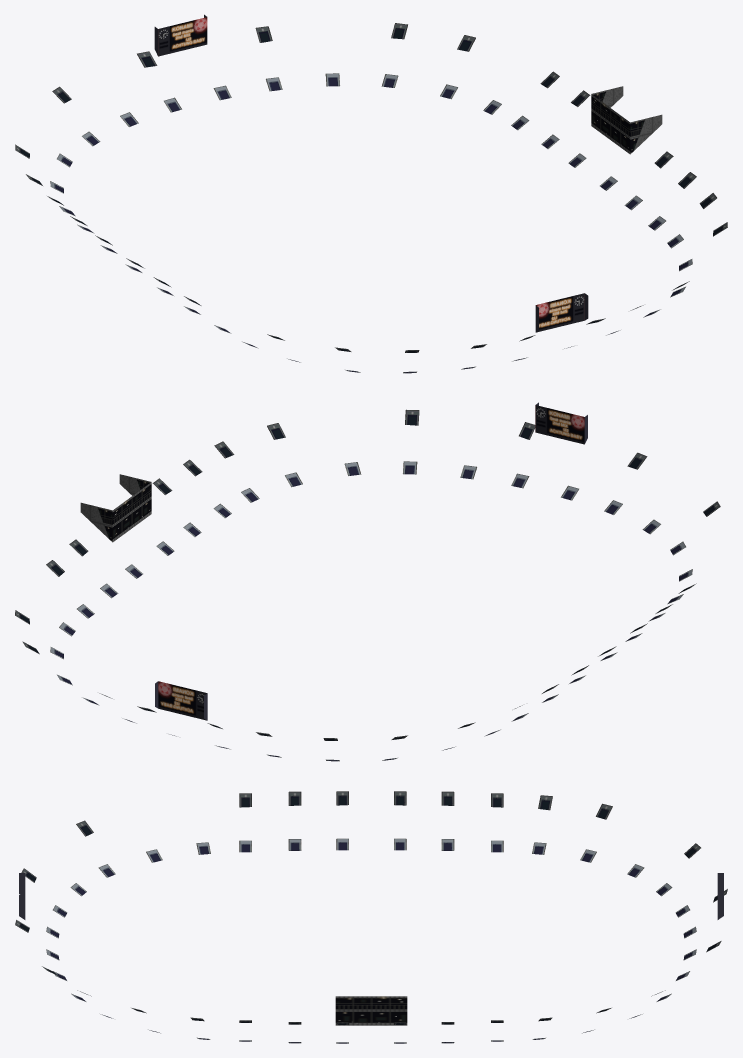
3 views of the same model, one above another, from view 1: azimuth 30°, elevation 25°; view 2: azimuth 150°, elevation 25°; view 3: azimuth 270°, elevation 25° (orthographic). The views are drawn at different scales.
Size of the model in its own units: 191 by 23.86 by 243.
3 materials, 3 textured.
